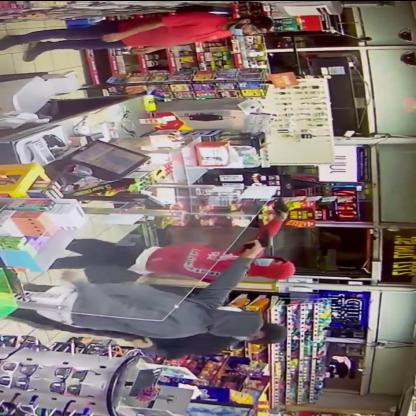Pistol: (237, 224, 275, 256), (260, 194, 293, 217)
